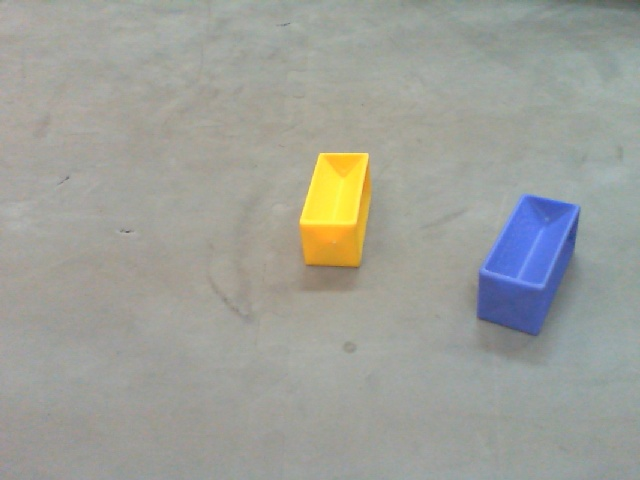BlueSample: (475, 191, 583, 342)
YellowSample: (298, 148, 373, 270)
